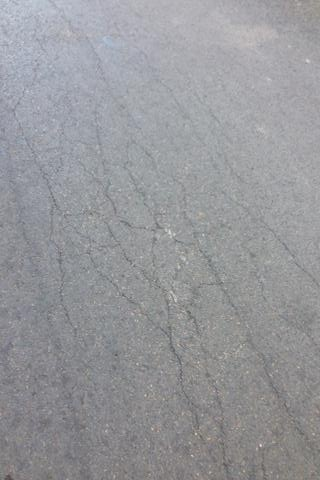A: (22, 85, 320, 466)
